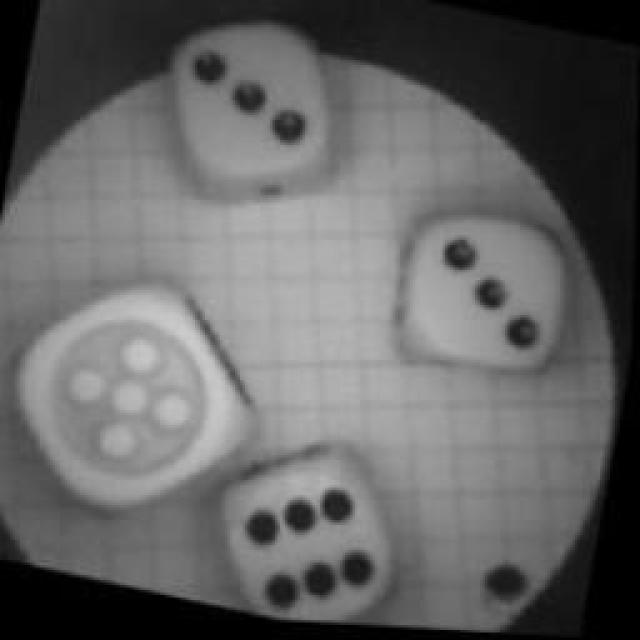dice_3: (136, 0, 361, 232), (381, 195, 584, 393)
dice_5: (0, 255, 270, 555)
dice_6: (205, 424, 430, 628)
